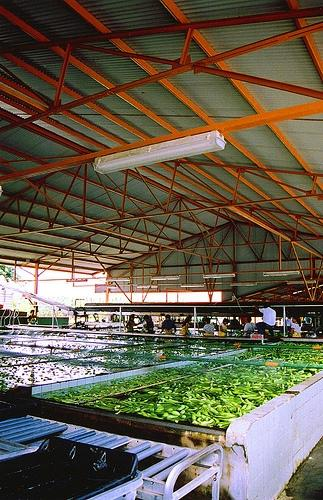banana: (201, 418, 214, 424), (241, 394, 258, 398), (250, 388, 267, 392), (208, 407, 218, 413), (120, 407, 130, 413), (168, 398, 180, 402), (79, 397, 95, 400), (215, 396, 230, 399), (207, 410, 214, 416), (238, 381, 246, 386), (230, 401, 238, 406), (209, 388, 222, 391), (202, 393, 208, 399), (101, 398, 117, 400), (183, 412, 191, 416), (134, 407, 140, 412), (228, 418, 235, 422), (234, 398, 241, 402), (247, 397, 261, 399), (198, 401, 207, 404), (197, 417, 202, 422), (216, 408, 222, 412), (154, 410, 162, 413), (90, 390, 100, 392), (242, 390, 248, 393), (171, 405, 177, 408), (194, 388, 200, 391), (164, 368, 168, 372), (128, 397, 132, 401), (182, 393, 186, 397), (251, 380, 258, 382), (283, 354, 290, 356), (148, 404, 154, 406), (292, 374, 295, 378), (156, 384, 162, 386), (224, 378, 230, 380), (134, 404, 140, 406), (294, 374, 300, 376), (158, 414, 164, 416), (192, 375, 197, 377), (131, 382, 136, 384), (230, 380, 233, 383), (178, 370, 182, 372), (200, 381, 204, 383), (250, 374, 254, 376), (288, 380, 290, 384), (48, 378, 52, 380), (192, 386, 196, 388), (158, 376, 162, 378), (156, 378, 160, 380), (286, 370, 288, 374), (84, 392, 88, 394), (276, 376, 280, 378), (208, 377, 211, 379), (202, 404, 205, 406), (296, 360, 302, 361), (223, 349, 227, 350), (289, 354, 292, 355), (248, 355, 251, 356), (206, 345, 208, 346), (235, 372, 238, 372)
